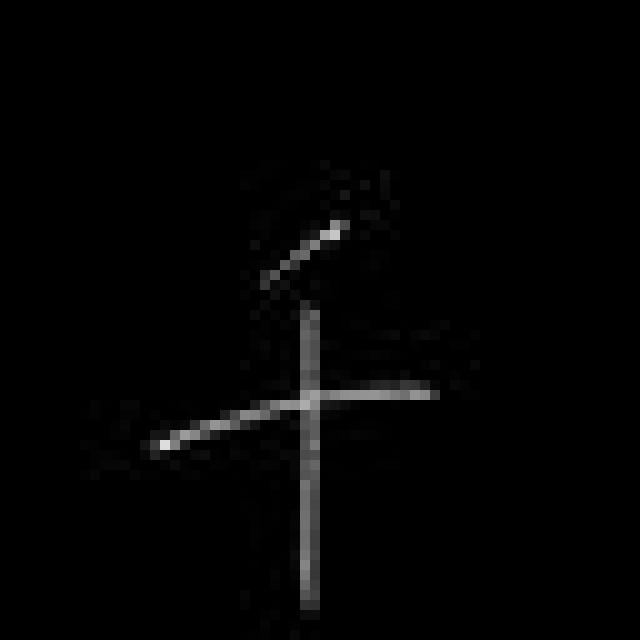1000 -a thousand-: (136, 213, 446, 618)
